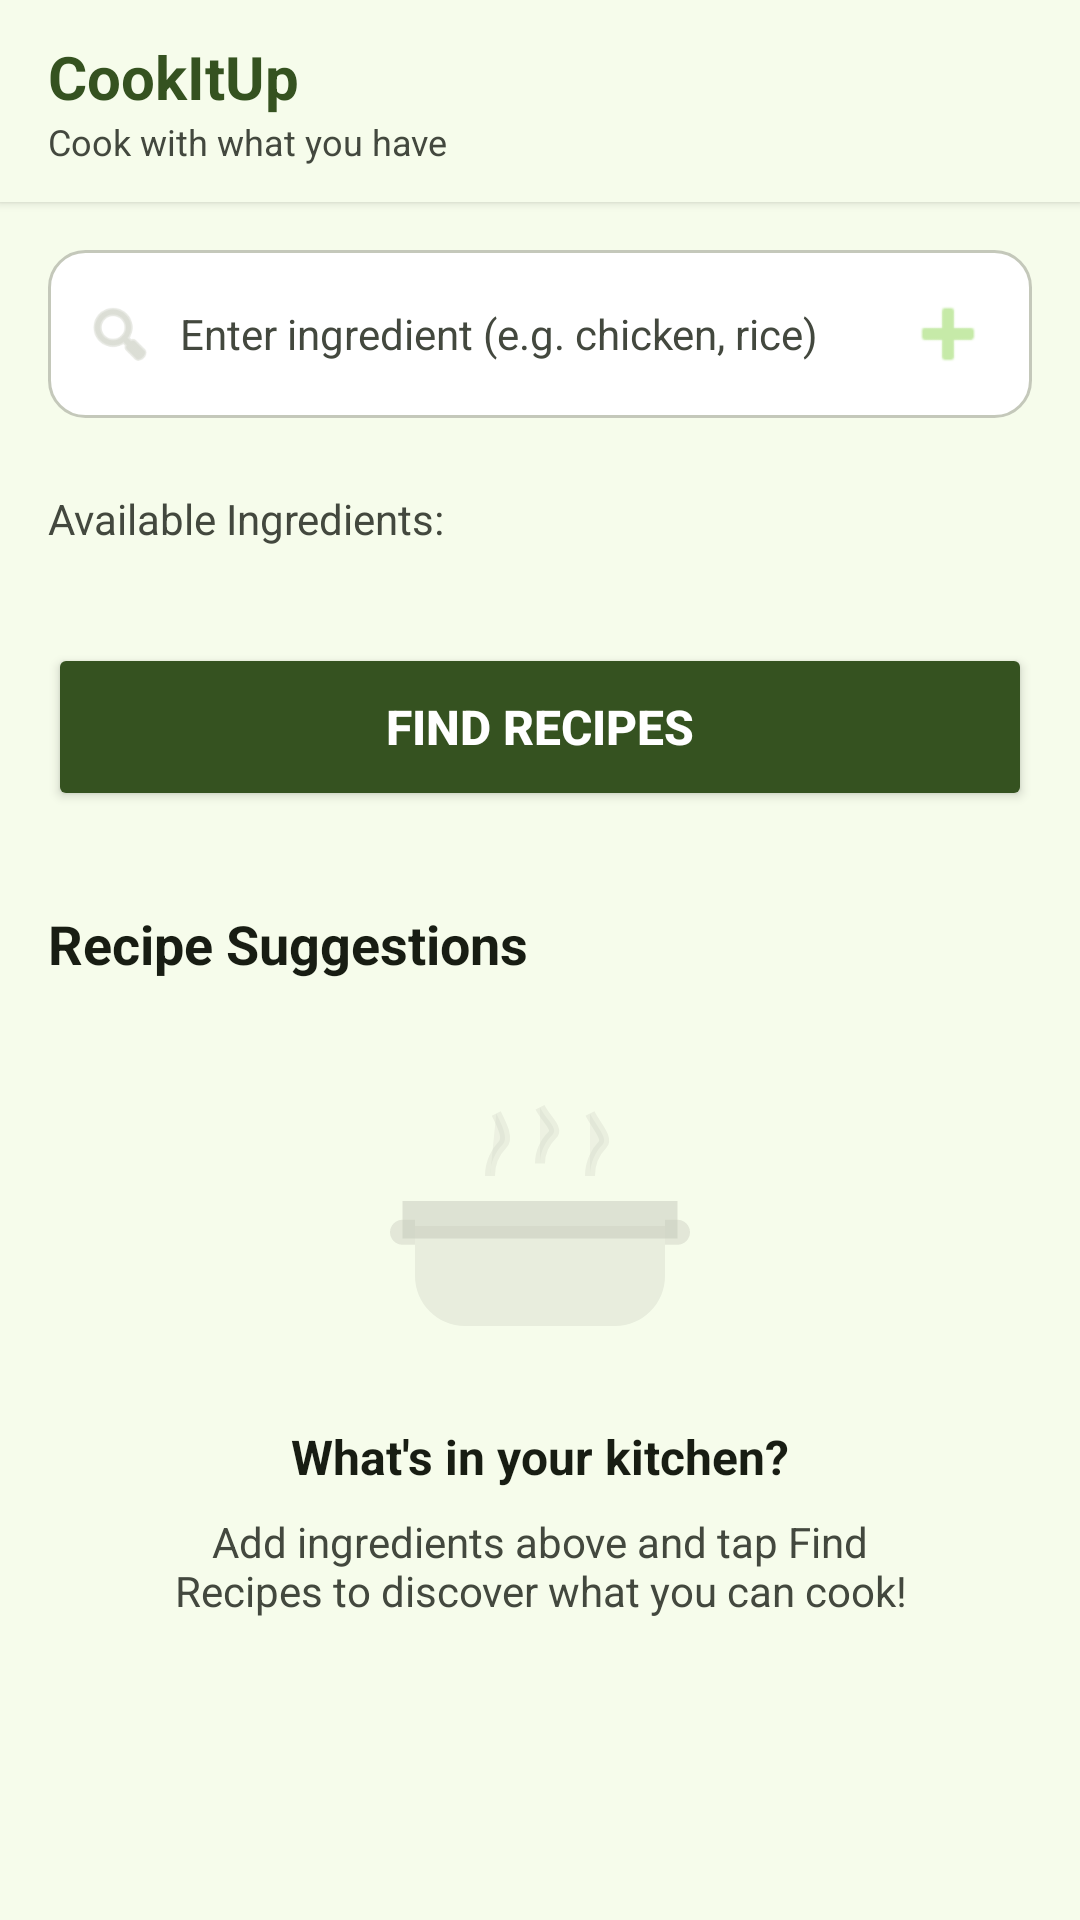

Named icons in this screenshot (1080*1920) and their centers, point (x, y):
add: point (948, 334)
search: point (120, 334)
